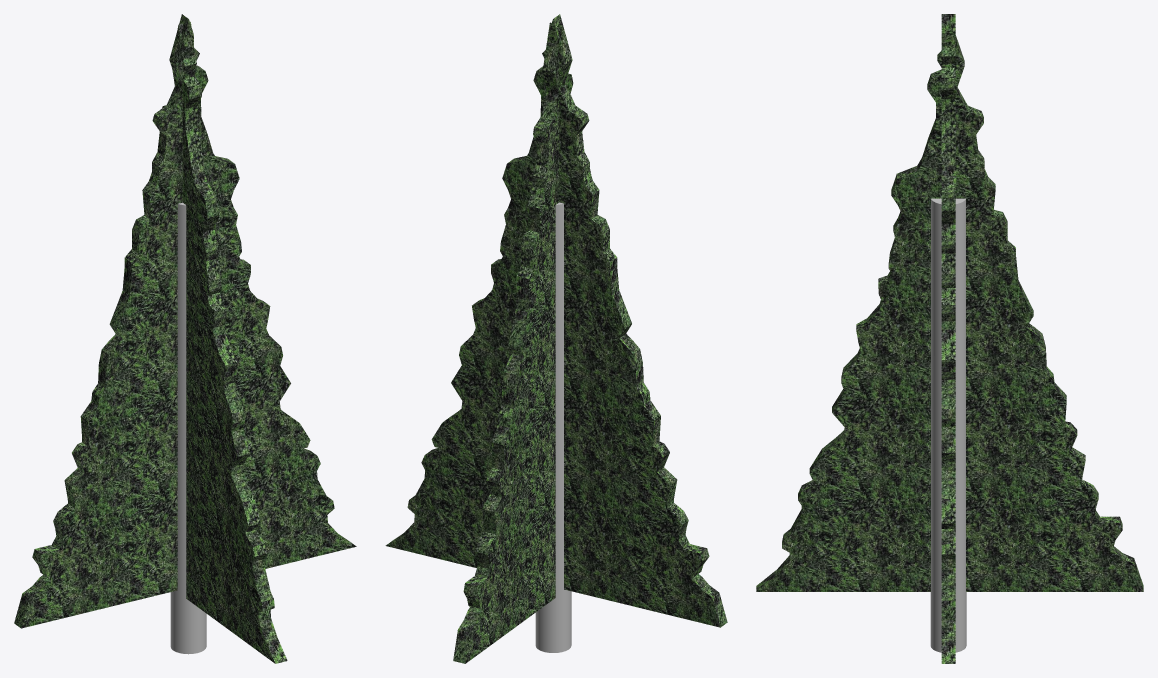
Rendered from dark_tree.dae.
The picture shows the model from 3 angles, left to right: view 1: azimuth 30°, elevation 25°; view 2: azimuth 150°, elevation 25°; view 3: azimuth 270°, elevation 25°; orthographic projection.
Visible parts, largest first — view 1: SketchUp (×3); view 2: SketchUp (×3); view 3: SketchUp (×3).
Boxes of the visible parts, box(x1,y1,x2,y2) form: SketchUp (×3): box(14, 14, 356, 663); SketchUp (×3): box(385, 14, 727, 663); SketchUp (×3): box(756, 14, 1143, 663).
Bounding box in the file's own units: 83.88 × 83.88 × 151.
